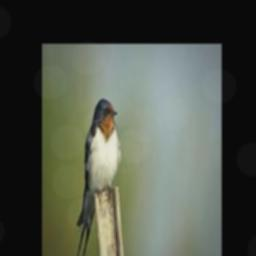Swallow: (75, 99, 121, 256)
